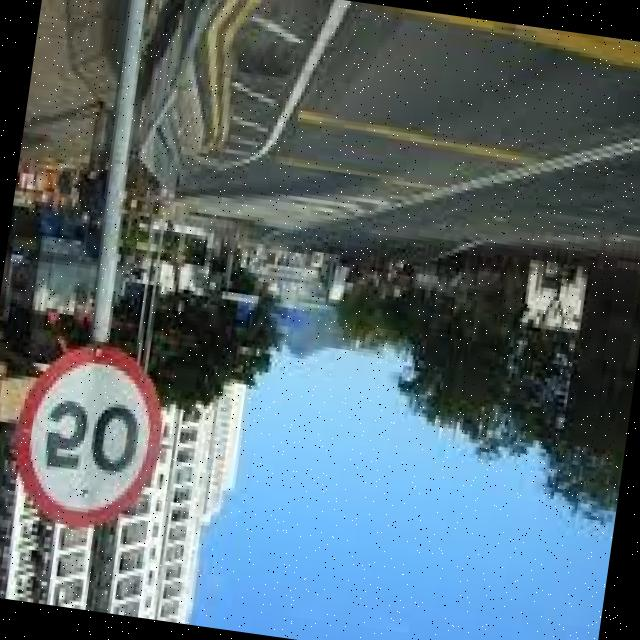speed_limit_50: (0, 329, 185, 552)
